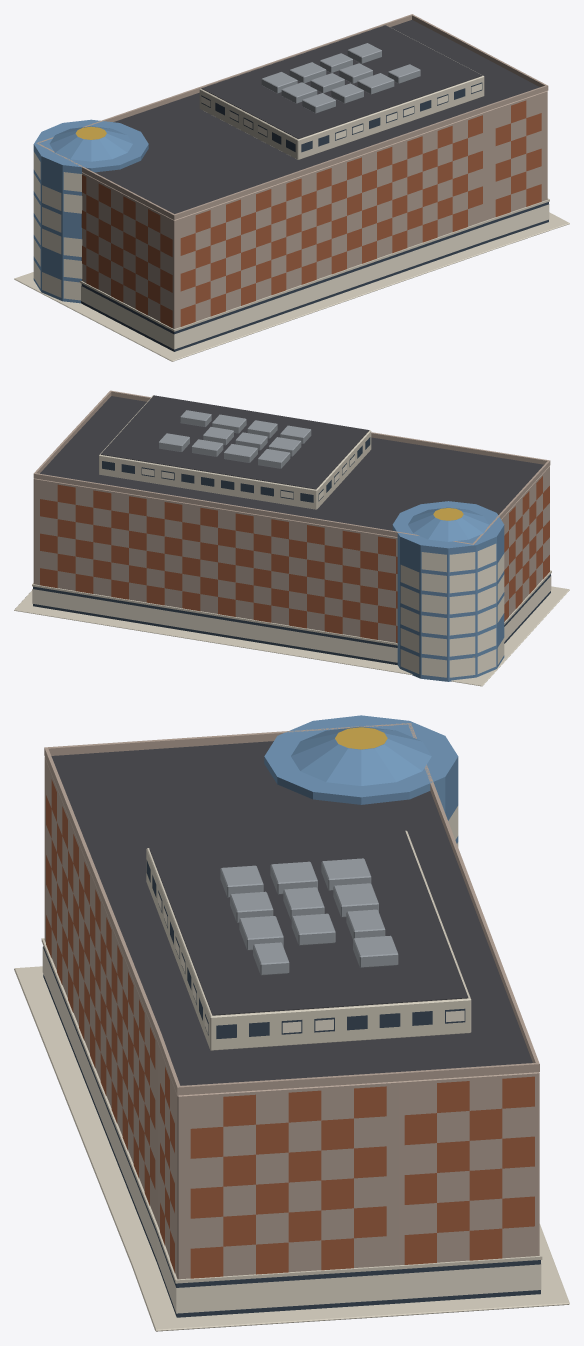
Rendered from 150-stockton-street.glb.
3 views of the same model, one above another, from view 1: azimuth 30°, elevation 25°; view 2: azimuth 150°, elevation 25°; view 3: azimuth 270°, elevation 25° (orthographic). The views are drawn at different scales.
Visible parts, largest first — view 1: 150-stockton-street_body, 150-stockton-street_night_glow; view 2: 150-stockton-street_body, 150-stockton-street_night_glow; view 3: 150-stockton-street_body, 150-stockton-street_night_glow.
Part boxes in pixels (<box>): 150-stockton-street_body: <box>14,14,569,361</box>; 150-stockton-street_night_glow: <box>33,83,549,349</box>; 150-stockton-street_body: <box>14,390,569,686</box>; 150-stockton-street_night_glow: <box>32,455,551,677</box>; 150-stockton-street_body: <box>14,715,569,1331</box>; 150-stockton-street_night_glow: <box>42,727,541,1313</box>.
Size of the model in its own units: 105 by 33.9 by 63.06.
